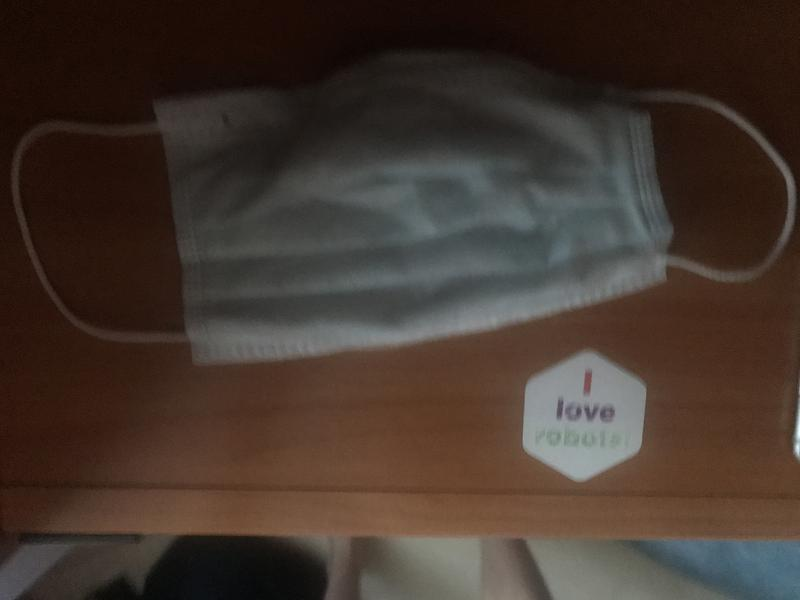medical_mask: (9, 52, 795, 369)
